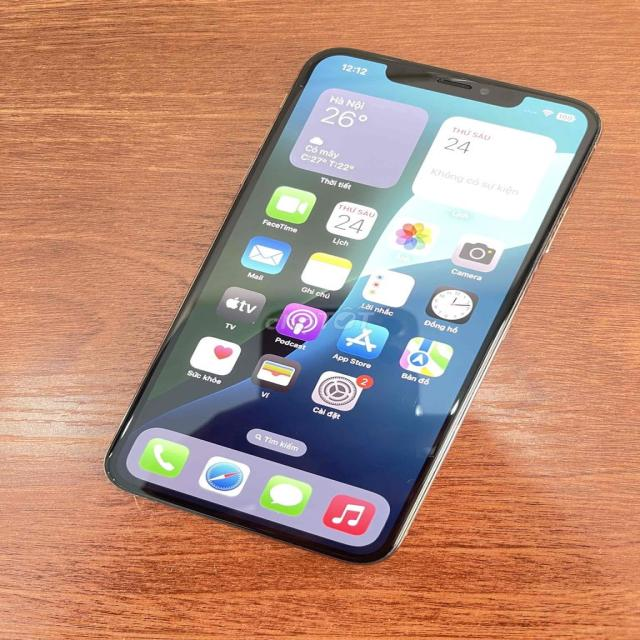scratch: (584, 104, 606, 123), (101, 468, 123, 486), (295, 77, 311, 96)
